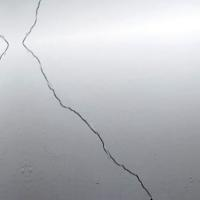crack: (17, 1, 166, 199)
